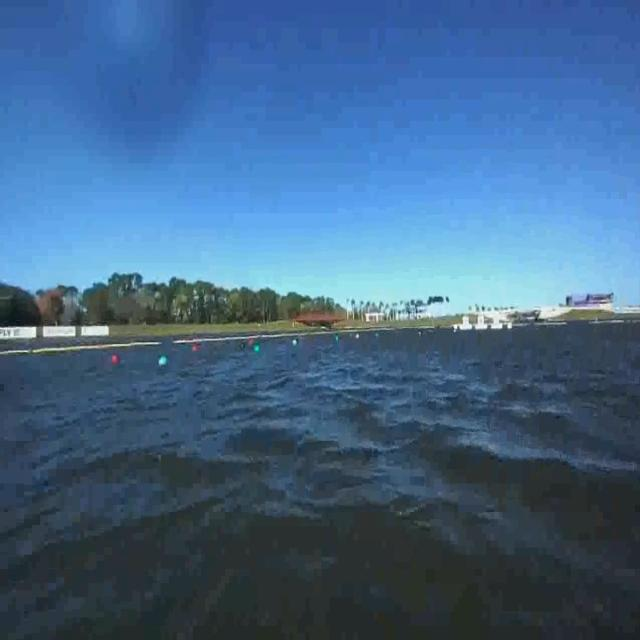green-buoy: (155, 353, 170, 369)
red-buoy: (112, 354, 119, 364)
